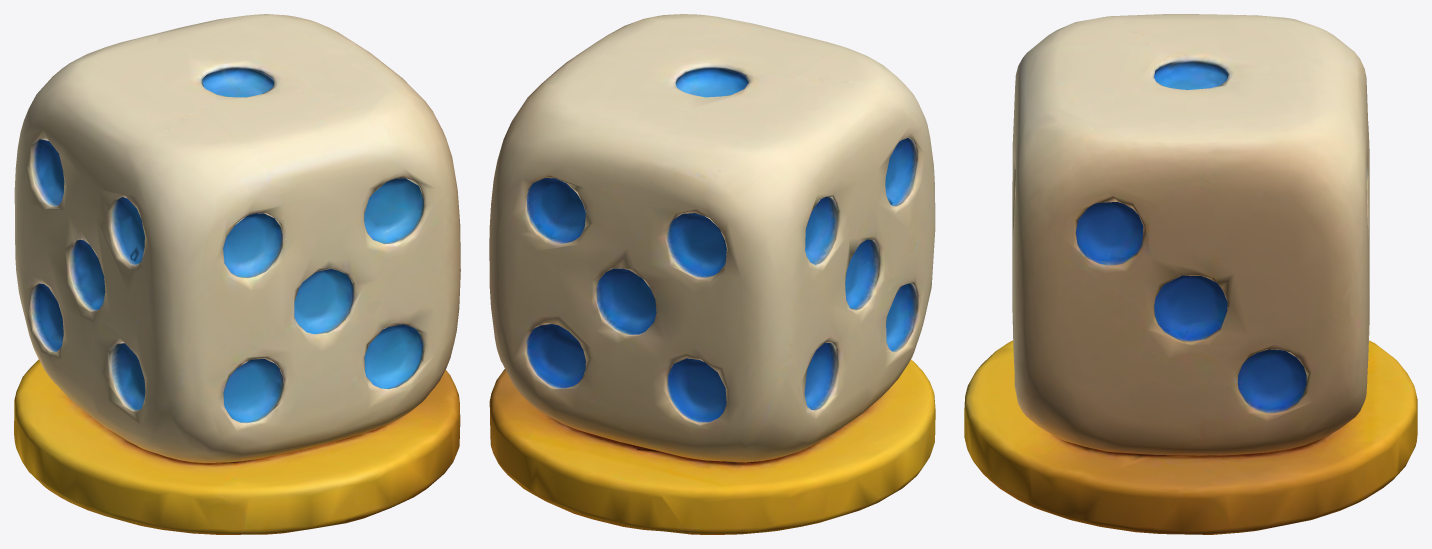
The model's file is giant-dice.glb.
The picture shows the model from 3 angles, left to right: view 1: azimuth 30°, elevation 25°; view 2: azimuth 150°, elevation 25°; view 3: azimuth 270°, elevation 25°; orthographic projection.
Parts seen in each view (by area): view 1: tripo_node_c50f844d-9e3b-4a0a-9ff1-ec2c12321bfc; view 2: tripo_node_c50f844d-9e3b-4a0a-9ff1-ec2c12321bfc; view 3: tripo_node_c50f844d-9e3b-4a0a-9ff1-ec2c12321bfc.
Boxes of the visible parts, x1,y1,x2,y2 form: tripo_node_c50f844d-9e3b-4a0a-9ff1-ec2c12321bfc: (14, 14, 460, 534); tripo_node_c50f844d-9e3b-4a0a-9ff1-ec2c12321bfc: (489, 14, 935, 534); tripo_node_c50f844d-9e3b-4a0a-9ff1-ec2c12321bfc: (964, 14, 1417, 534).
Bounding box in the file's own units: 0.999 × 0.9068 × 0.9985.
Materials: 1 (1 with a texture image).
